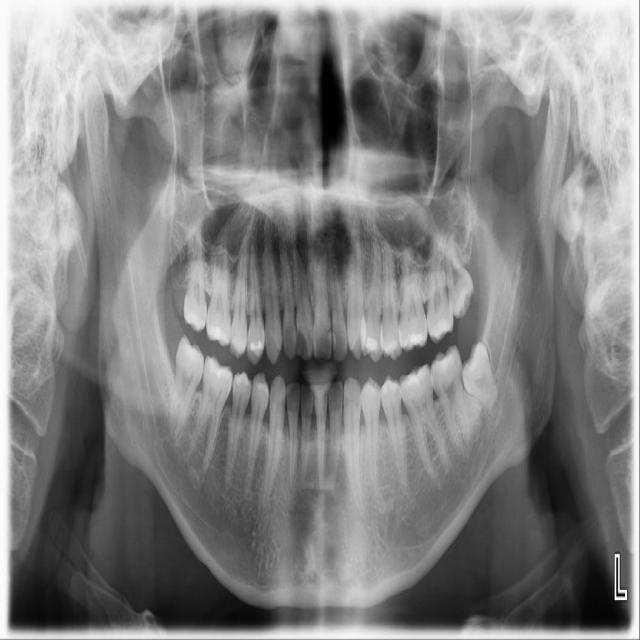impacted tooth: (462, 342, 498, 412)
